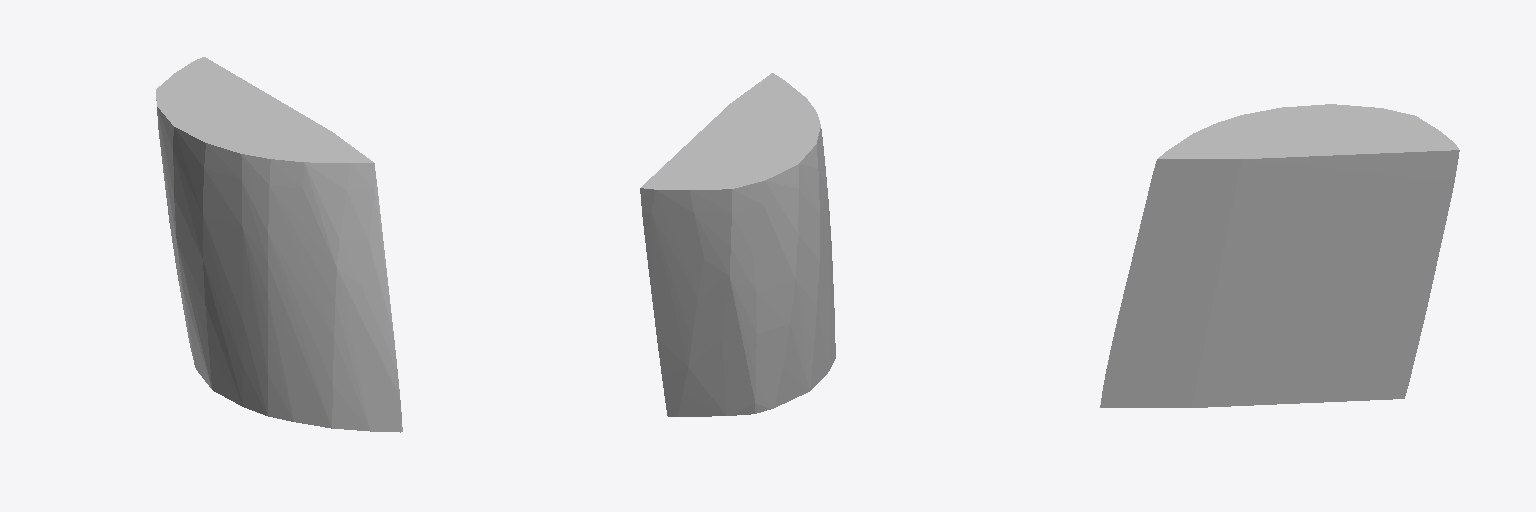
File: phantom-elastrat_collision_356.obj
3 renders of one model, left to right at view 1: azimuth 30°, elevation 25°; view 2: azimuth 150°, elevation 25°; view 3: azimuth 270°, elevation 25°, orthographic.
Size of the model in its own units: 0.003 by 0.0063 by 0.0083.